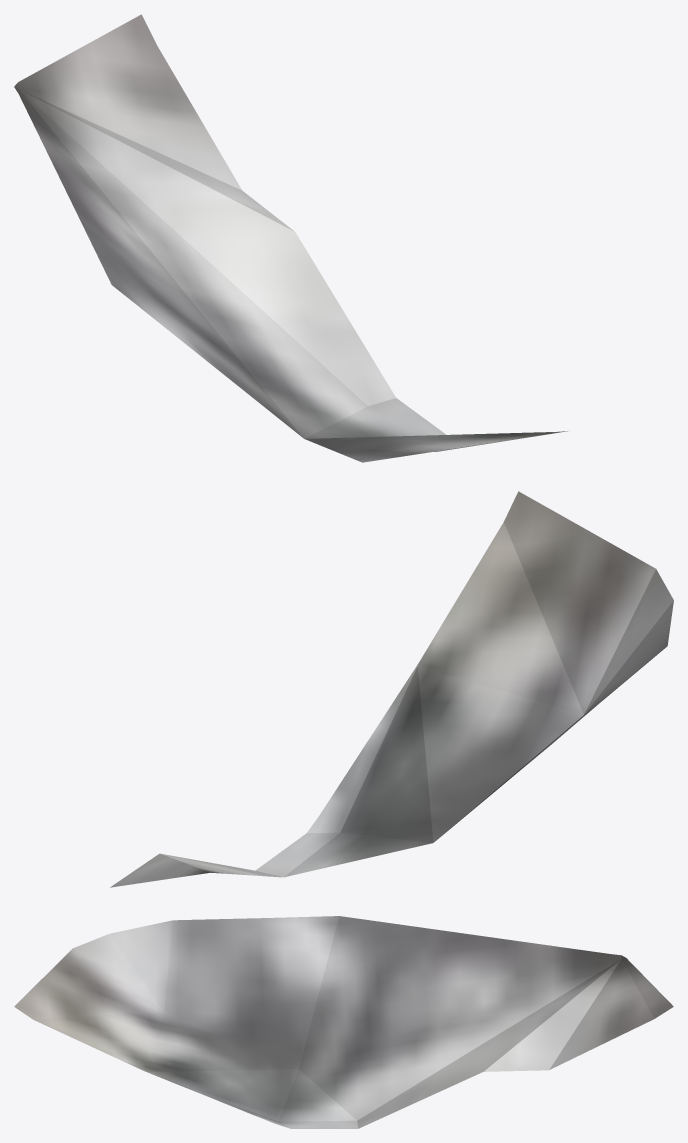
3 views of the same model, one above another, from view 1: azimuth 30°, elevation 25°; view 2: azimuth 150°, elevation 25°; view 3: azimuth 270°, elevation 25° (orthographic). The views are drawn at different scales.
Size of the model in its own units: 0.4164 by 0.2628 by 1.28.
Materials: 1 (1 with a texture image).
